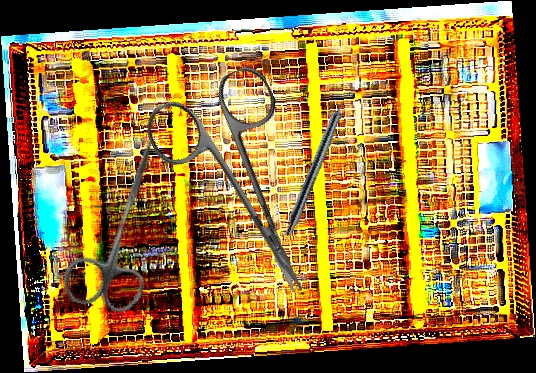Handpiece: (282, 85, 356, 239)
Iris Scissors: (138, 60, 353, 321), (57, 124, 187, 320)
